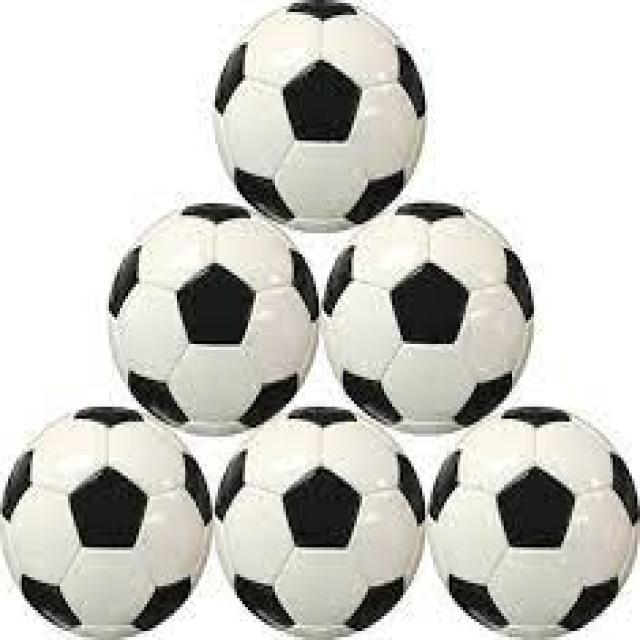football: (425, 410, 634, 634), (2, 413, 210, 634), (324, 203, 528, 419), (223, 3, 422, 221), (112, 206, 313, 419), (223, 419, 425, 628)
